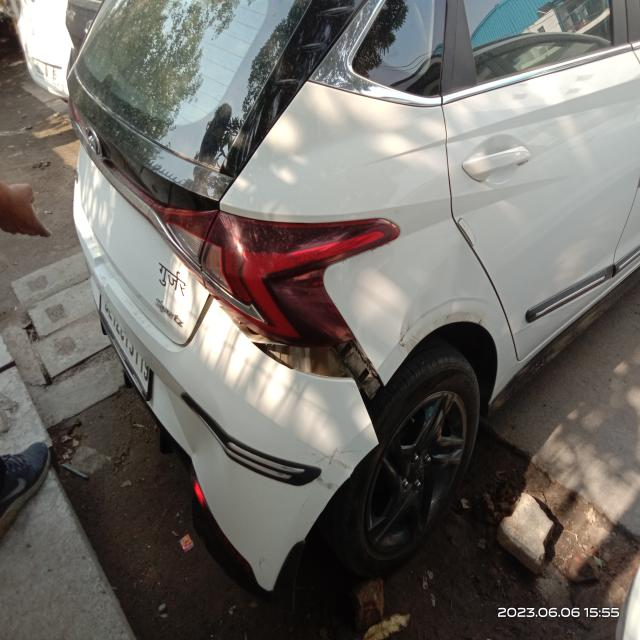damage: (238, 318, 371, 455), (390, 301, 502, 356), (307, 446, 358, 492)
